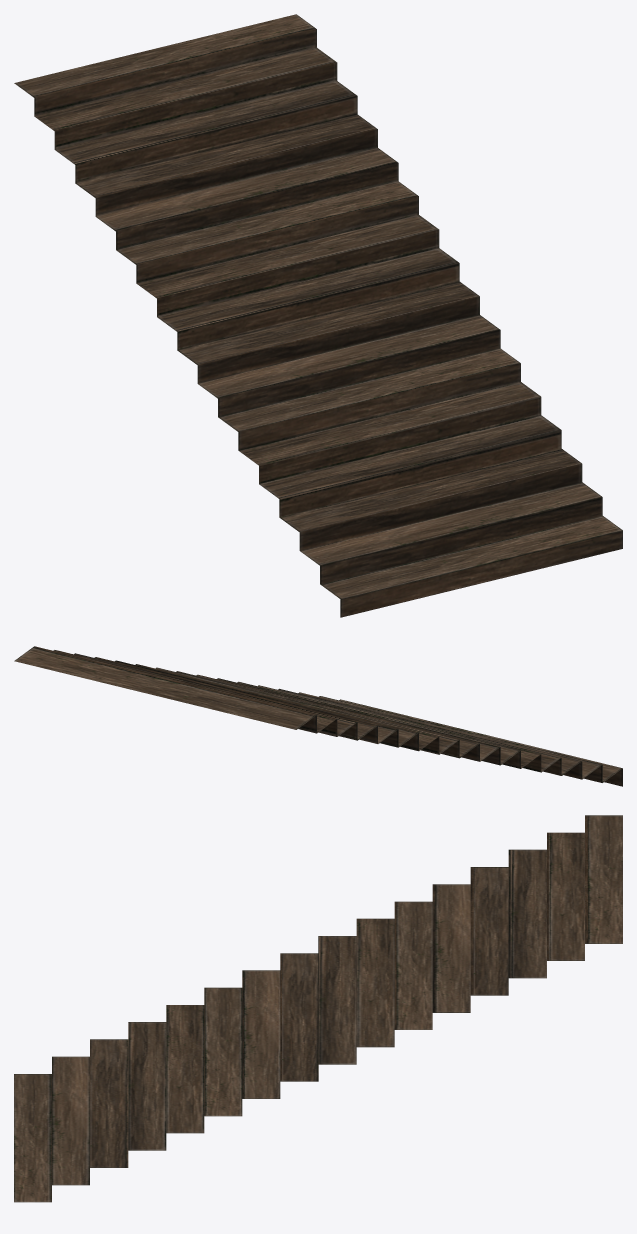
Rendered from stair_long_wide_001.glb.
The picture shows the model from 3 angles, top to bottom: view 1: azimuth 30°, elevation 25°; view 2: azimuth 150°, elevation 25°; view 3: azimuth 270°, elevation 25°; orthographic projection. The views are drawn at different scales.
Parts seen in each view (by area): view 1: Stairs_Wide_Full; view 2: Stairs_Wide_Full; view 3: Stairs_Wide_Full.
Part boxes in pixels (x1,y1,x2,y2): Stairs_Wide_Full: [14, 14, 622, 617]; Stairs_Wide_Full: [14, 646, 622, 786]; Stairs_Wide_Full: [14, 815, 622, 1202].
Bounding box in the file's own units: 3 × 3 × 6.
Materials: 1 (1 with a texture image).
